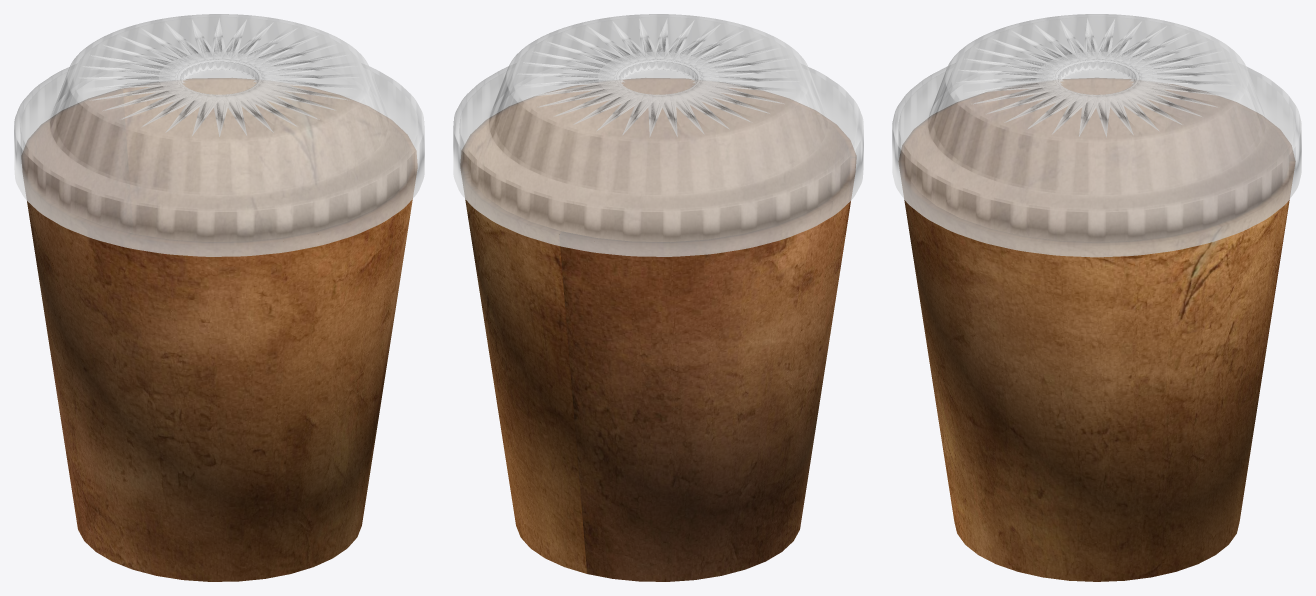
File: CoffeeCup1.gltf
3 views of the same model, side by side, from view 1: azimuth 30°, elevation 25°; view 2: azimuth 150°, elevation 25°; view 3: azimuth 270°, elevation 25° (orthographic).
Visible parts, largest first — view 1: Cylinder, Cylinder.001; view 2: Cylinder, Cylinder.001; view 3: Cylinder, Cylinder.001.
Part boxes in pixels (<box>): Cylinder: <box>21,78,417,581</box>; Cylinder.001: <box>14,14,424,256</box>; Cylinder: <box>460,78,856,581</box>; Cylinder.001: <box>453,14,863,256</box>; Cylinder: <box>898,78,1295,581</box>; Cylinder.001: <box>892,14,1301,257</box>.
Size of the model in its own units: 4.47 by 5.34 by 4.46.
Materials: 2 (1 with a texture image).
